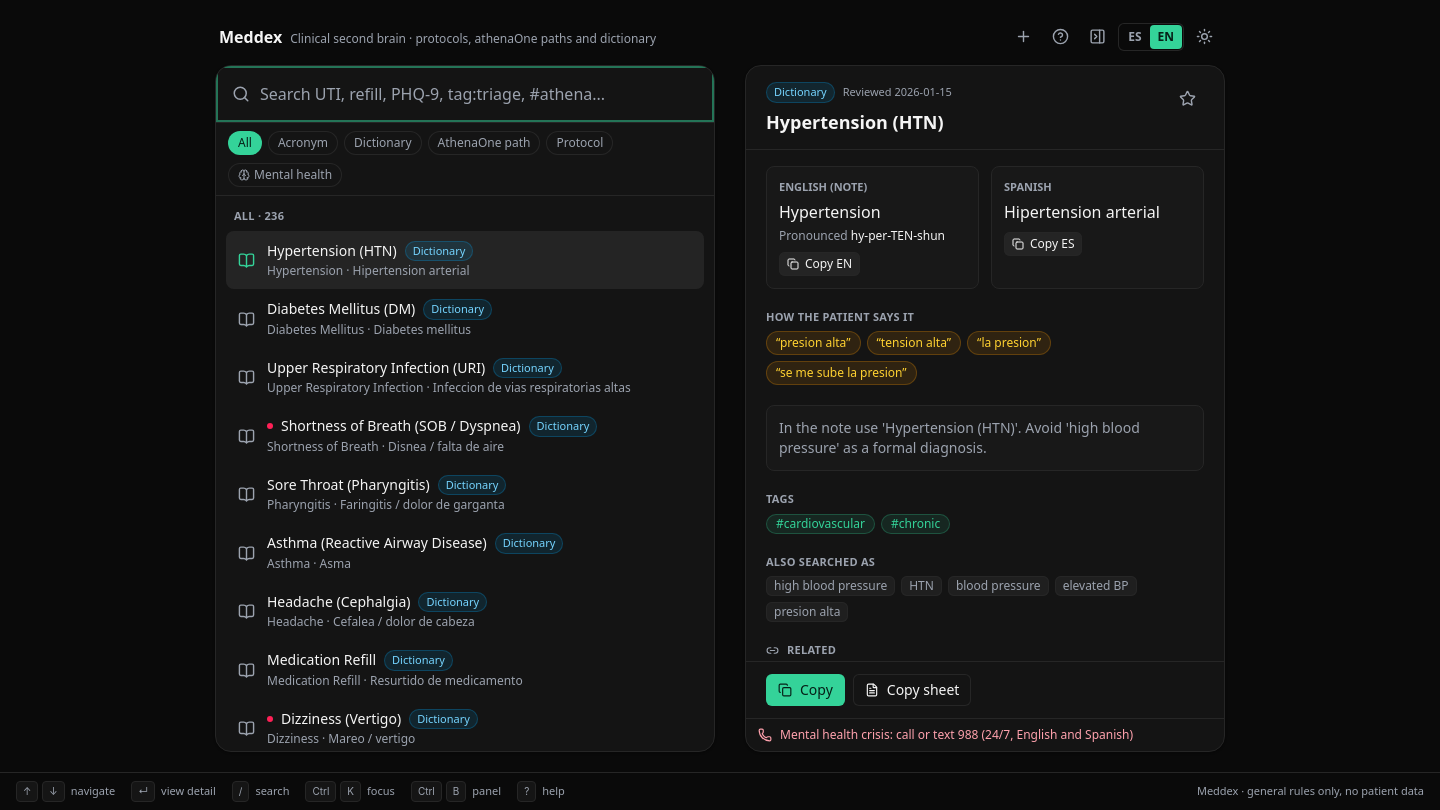
Test: idioma del contenido › los protocolos cambian de idioma con el switch
Type "fever" into the dropdown with placeholder "Search UTI, refill, PHQ-9, tag:triage, #athena..." at (479, 94), box [260,66,698,122]
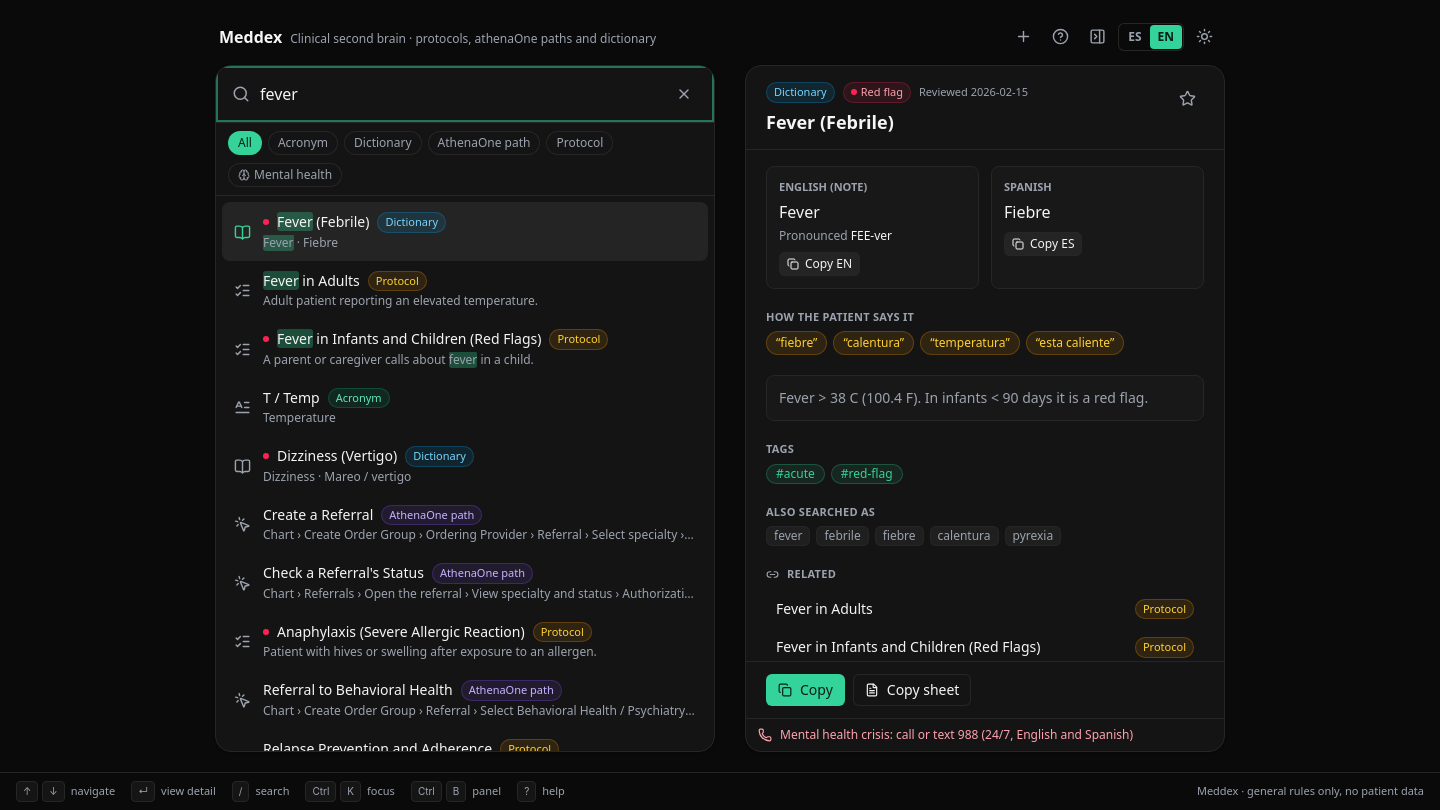
Now the text "Fever in Adults" is shown, box [776,599,873,618]
Click the button "ES" at (1135, 36), box [1120,24,1150,48]
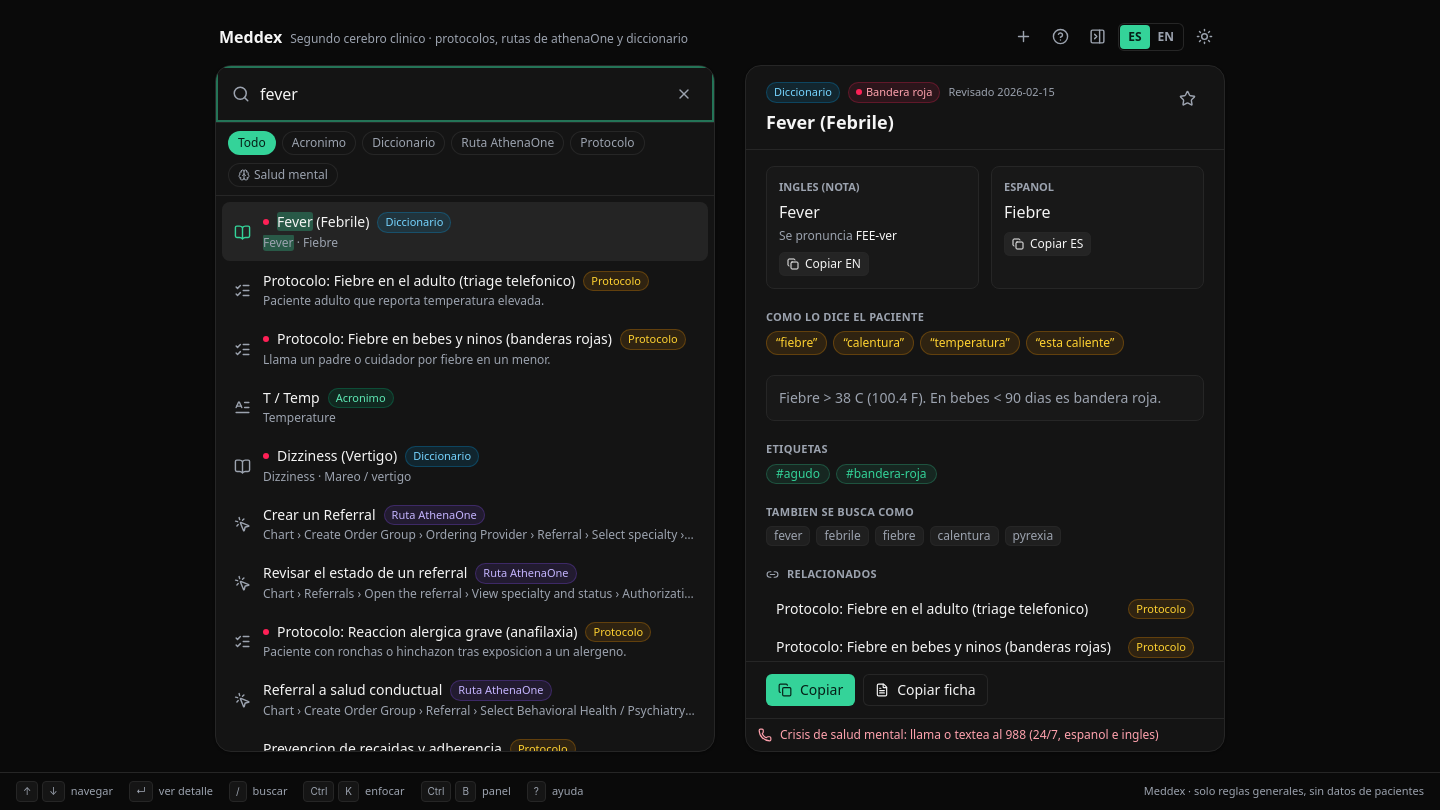
Now the text "Protocolo: Fiebre en el adulto (triage telefonico)" below "· Fiebre" is shown, box [263,271,575,290]
